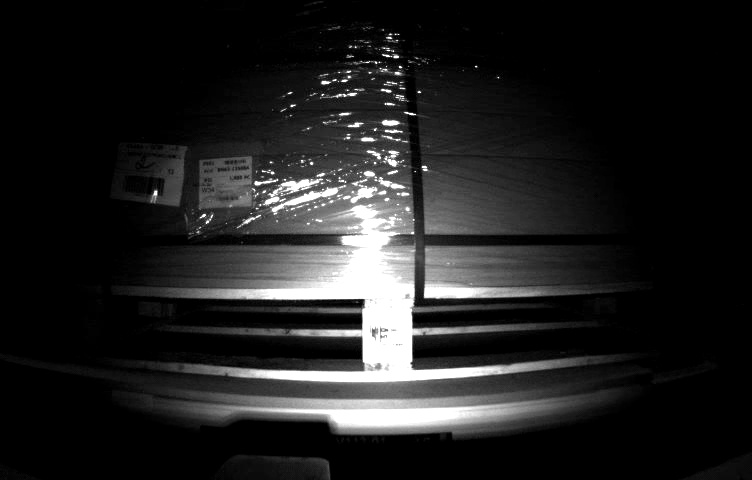True Barcode: (196, 157, 255, 210)
